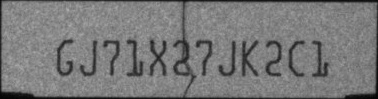1: (126, 38, 144, 77), (312, 38, 330, 77)
2: (265, 39, 284, 78), (172, 38, 191, 76)
7: (102, 39, 121, 76), (196, 38, 214, 76)
C: (288, 39, 305, 76)
G: (56, 39, 74, 76)
J: (218, 38, 236, 76), (80, 39, 98, 76)
K: (240, 39, 259, 78)
X: (149, 37, 169, 76)
